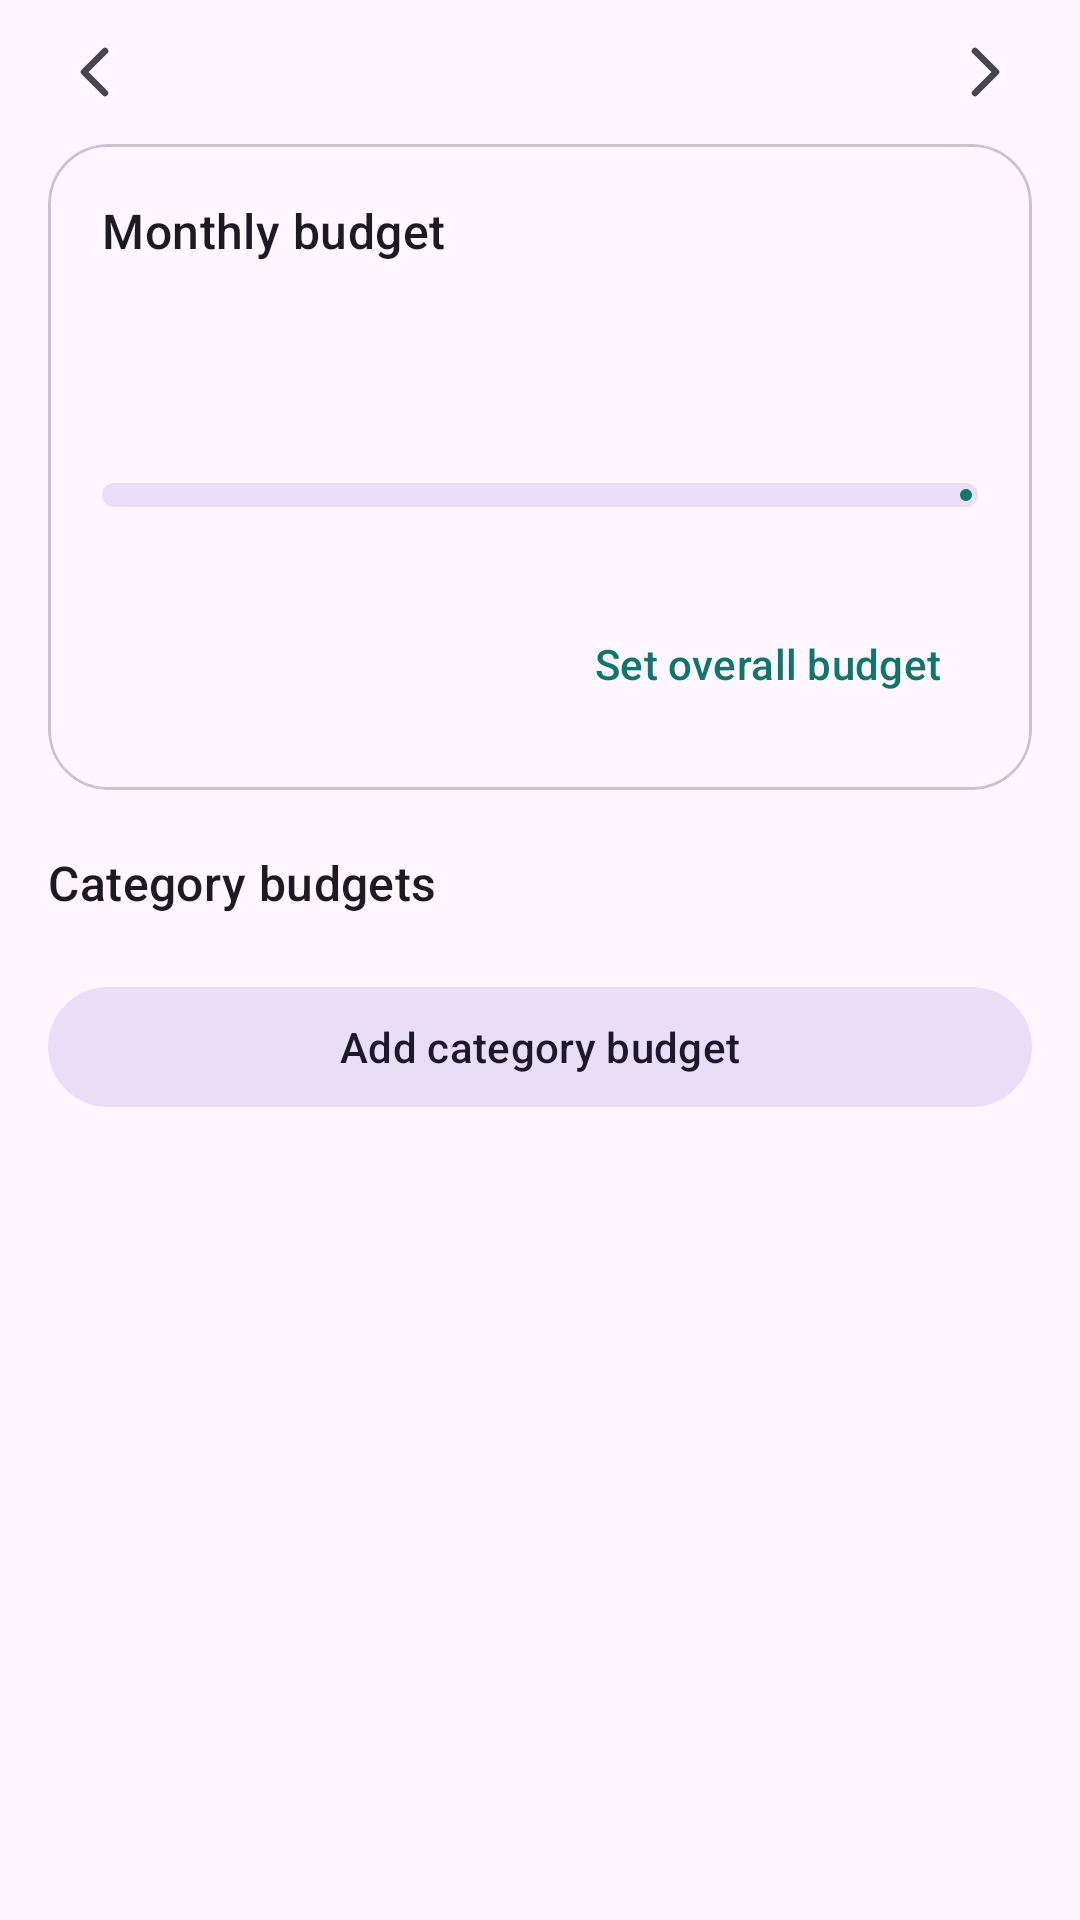

Named icons in this screenshot (1080px x 1920px) and their bounding boxes, (x1, y1, x2, y2):
Next month: (971, 47, 1000, 97)
Previous month: (80, 47, 109, 97)
